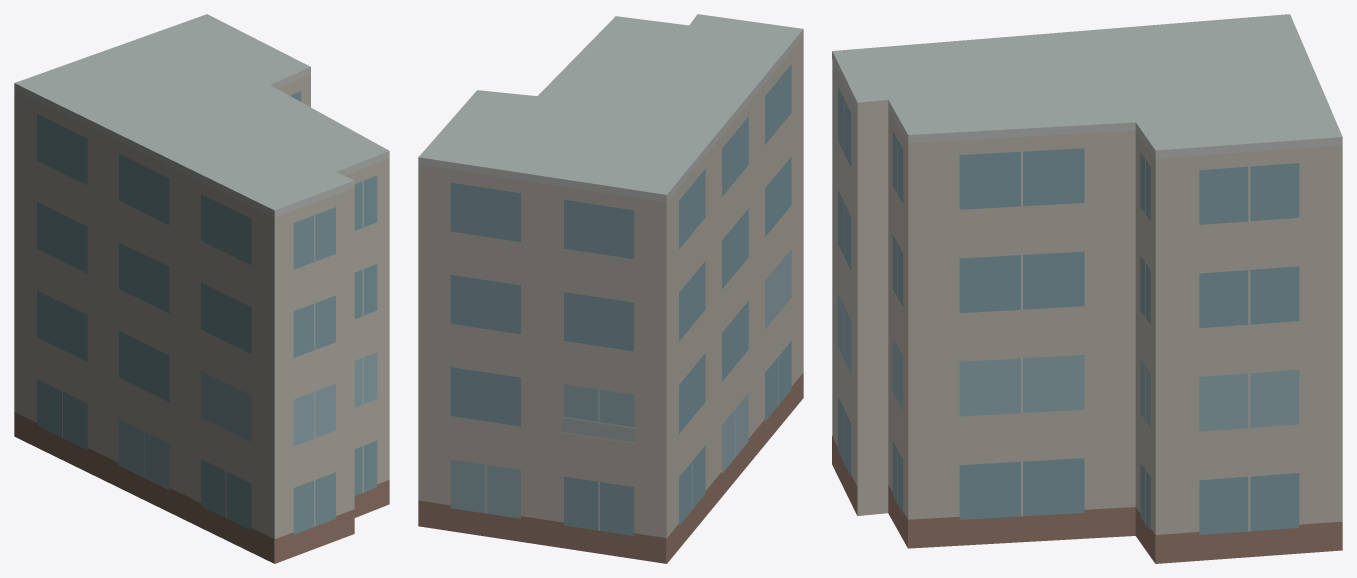
Rendered from survey-upis-32989154.glb.
The picture shows the model from 3 angles, left to right: view 1: azimuth 30°, elevation 25°; view 2: azimuth 150°, elevation 25°; view 3: azimuth 270°, elevation 25°; orthographic projection. The views are drawn at different scales.
Parts seen in each view (by area): view 1: survey-upis-32989154.tmp; view 2: survey-upis-32989154.tmp; view 3: survey-upis-32989154.tmp.
Boxes of the visible parts, x1,y1,x2,y2 form: survey-upis-32989154.tmp: (14,14,389,563); survey-upis-32989154.tmp: (418,14,803,563); survey-upis-32989154.tmp: (832,14,1342,563).
Size of the model in its own units: 8.65 by 12.2 by 13.67.
